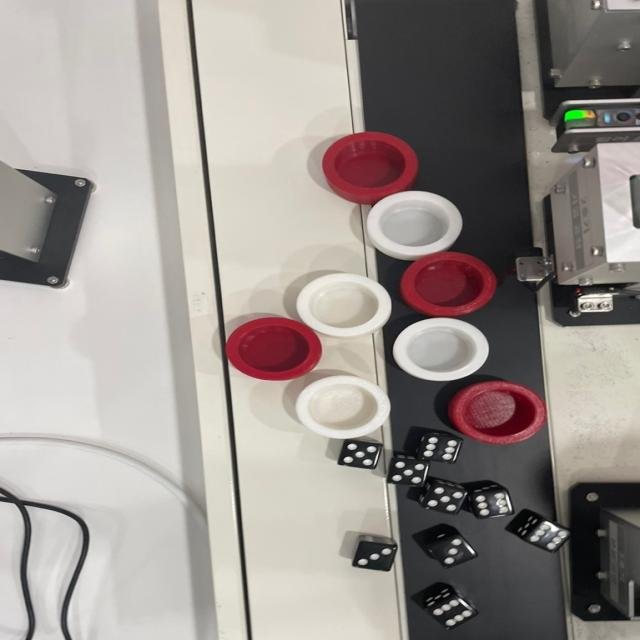DICE3: (356, 545, 391, 569), (442, 538, 465, 565)
DICE5: (338, 439, 380, 466), (425, 484, 462, 514), (391, 459, 429, 484)
DICE6: (530, 520, 574, 552), (432, 599, 478, 629), (469, 489, 516, 515), (419, 435, 460, 462)
RedChip: (316, 131, 416, 198), (219, 320, 325, 380), (452, 387, 543, 447), (397, 261, 492, 312)
WhiteChip: (294, 276, 387, 332), (400, 322, 490, 377), (372, 200, 460, 254), (302, 386, 385, 436)
